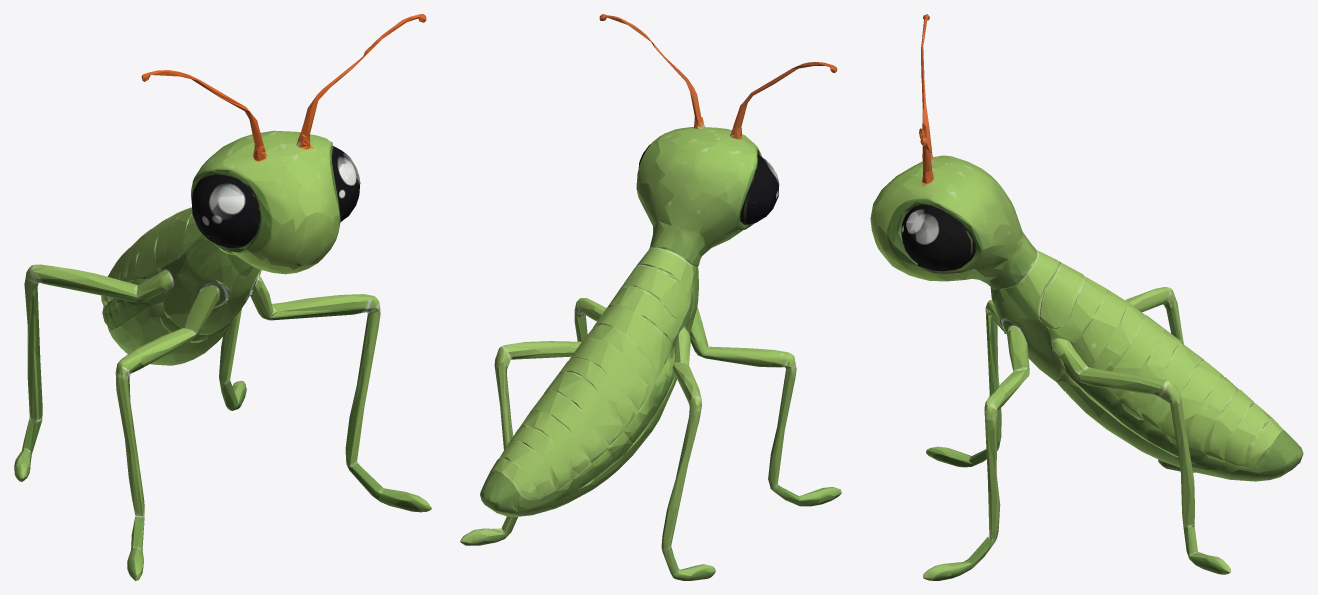
Rendered from grasshopper.glb.
3 views of the same model, side by side, from view 1: azimuth 30°, elevation 25°; view 2: azimuth 150°, elevation 25°; view 3: azimuth 270°, elevation 25° (orthographic). The views are drawn at different scales.
Bounding box in the file's own units: 1.15 × 1.9 × 1.67.
1 material, 1 textured.
